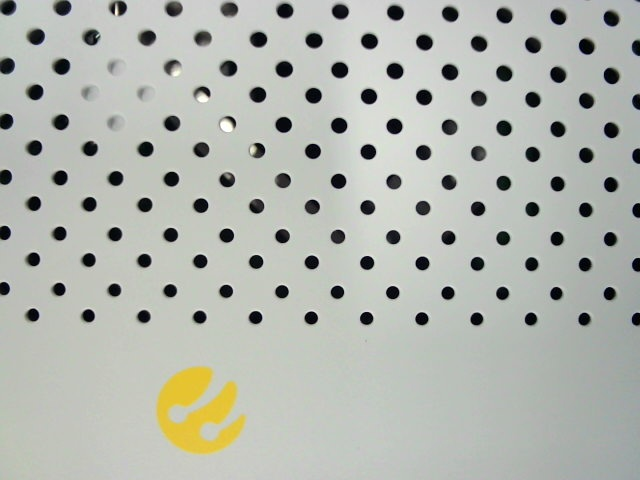AV_H3600Yellow: (151, 354, 256, 451)
